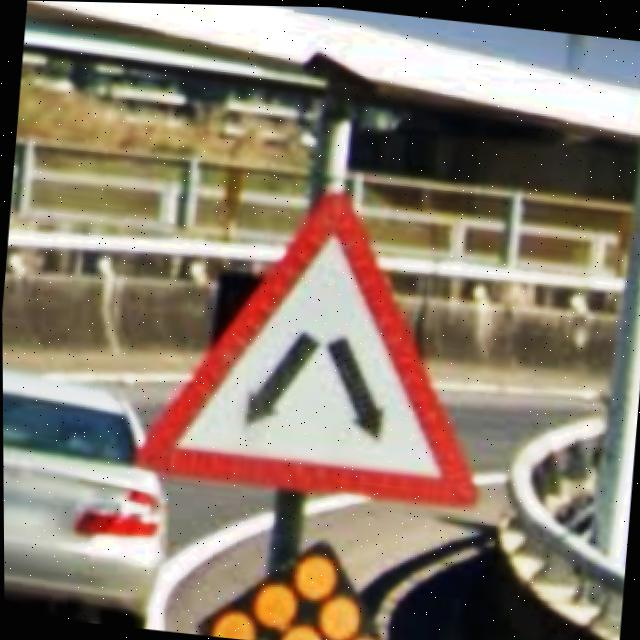diverge: (127, 164, 502, 513)
